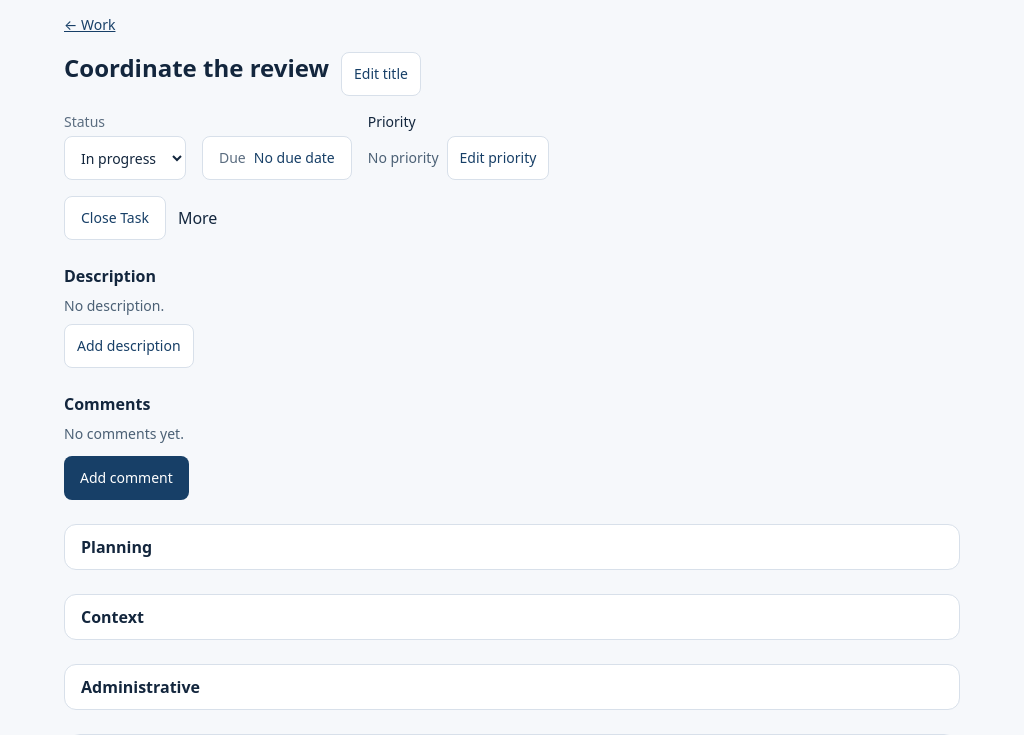
Test case: Task comments through the shared mutation coordinator › keeps a failed comment visible and truthful rather than pretending it persisted
This screenshot has width=1024, height=735.
Click the button with test id "task-comments-add" at (126, 478), box [64, 456, 189, 500]
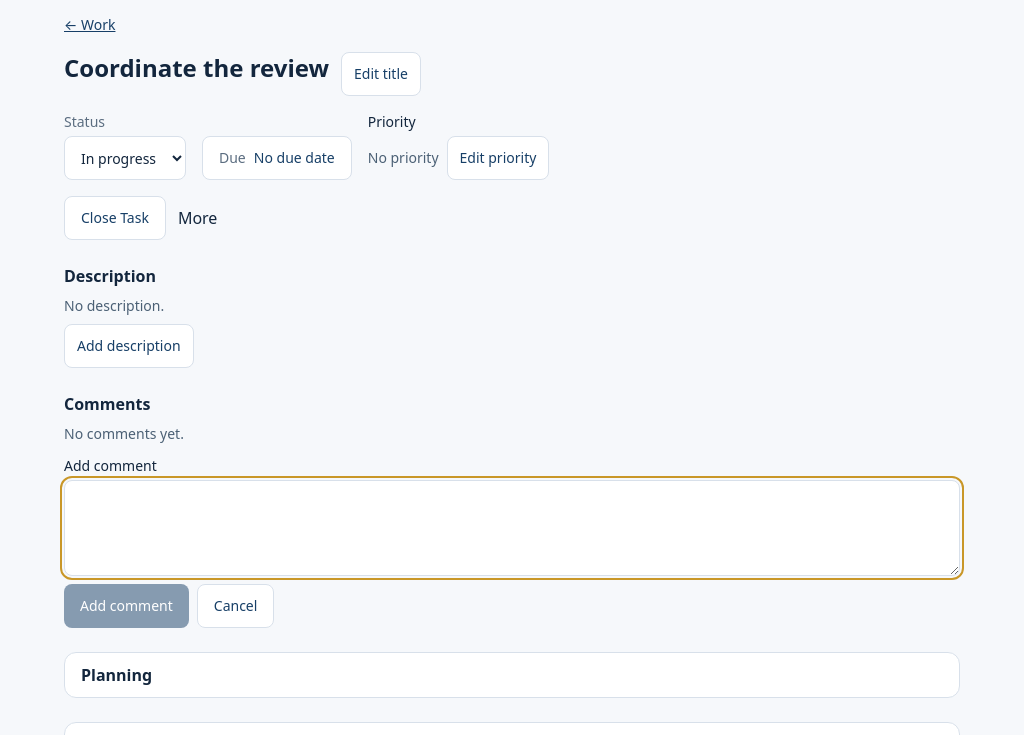
Type "Never persisted" into the text box labelled "Add comment" at (512, 528), box [64, 480, 960, 576]
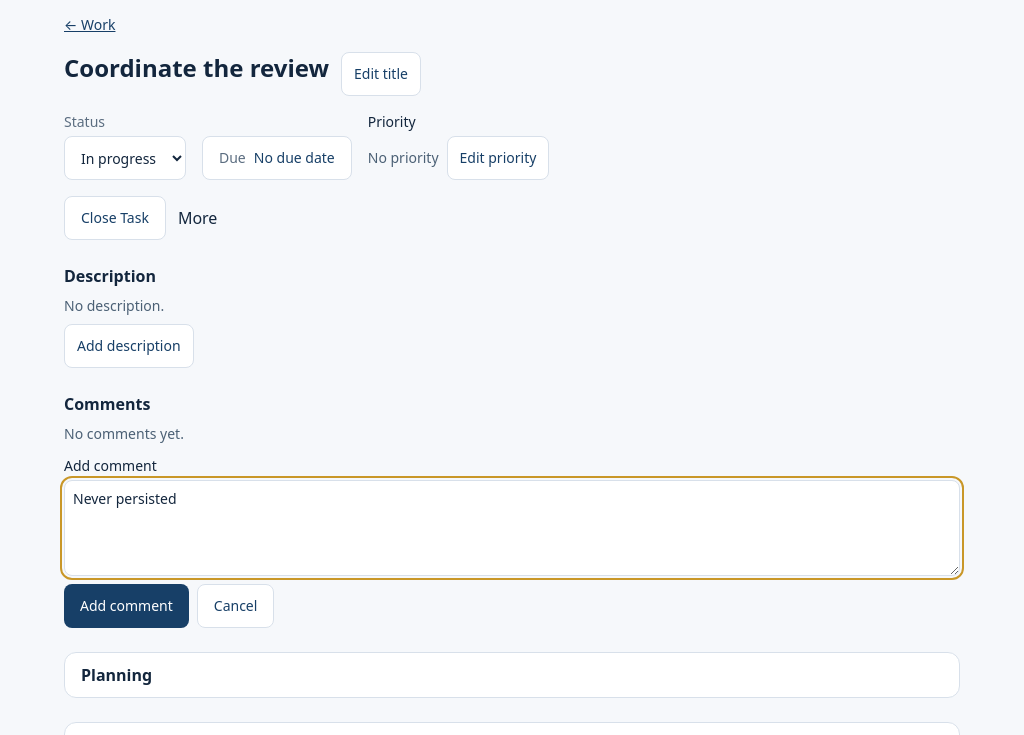
Click the button with test id "task-comments-submit" at (126, 606), box [64, 584, 189, 628]
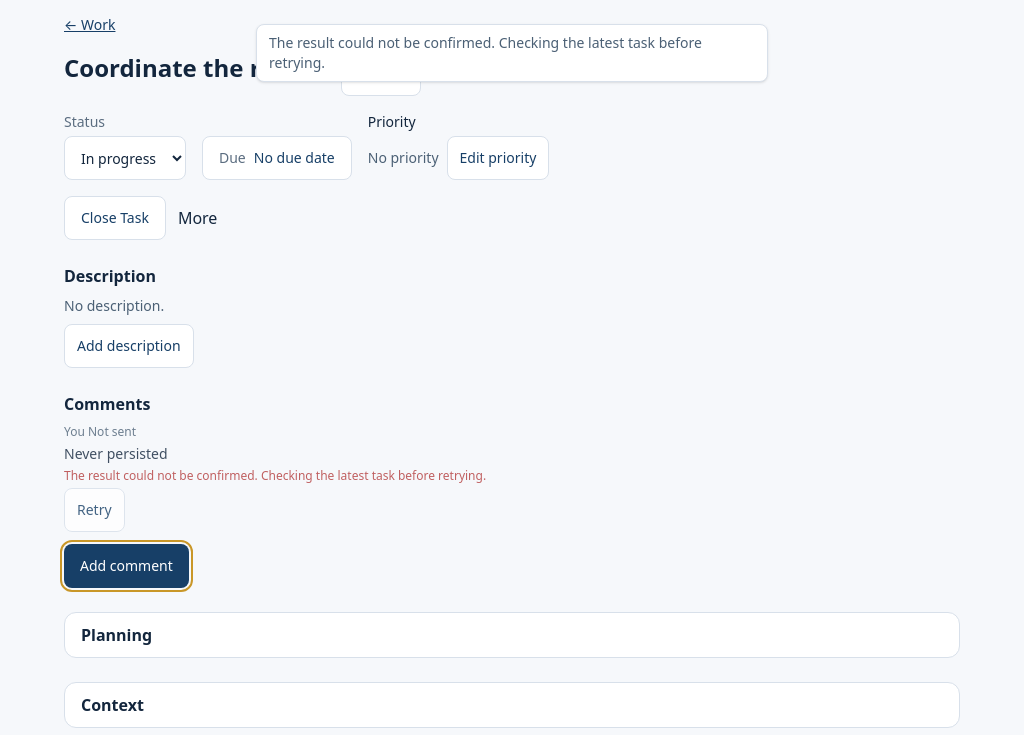
Now the list item with test id "task-comment-pending-" shows "Never persisted", box [64, 444, 168, 463]
